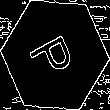P_NE: (27, 27, 83, 83)
